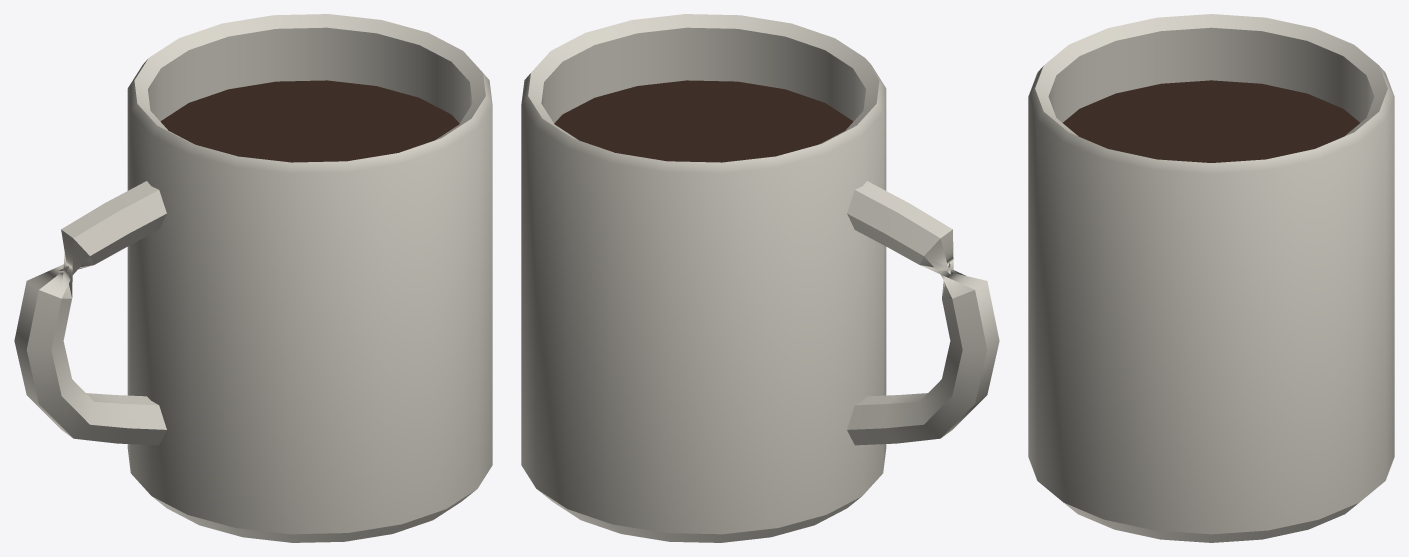
Rendered from char_hand_mug.glb.
3 views of the same model, side by side, from view 1: azimuth 30°, elevation 25°; view 2: azimuth 150°, elevation 25°; view 3: azimuth 270°, elevation 25° (orthographic).
Parts seen in each view (by area): view 1: Visual; view 2: Visual; view 3: Visual.
Part boxes in pixels (box(x1,y1,x2,y2)): Visual: box(14, 14, 492, 542); Visual: box(521, 14, 999, 542); Visual: box(1028, 14, 1394, 542).
Bounding box in the file's own units: 0.1158 × 0.095 × 0.082.
